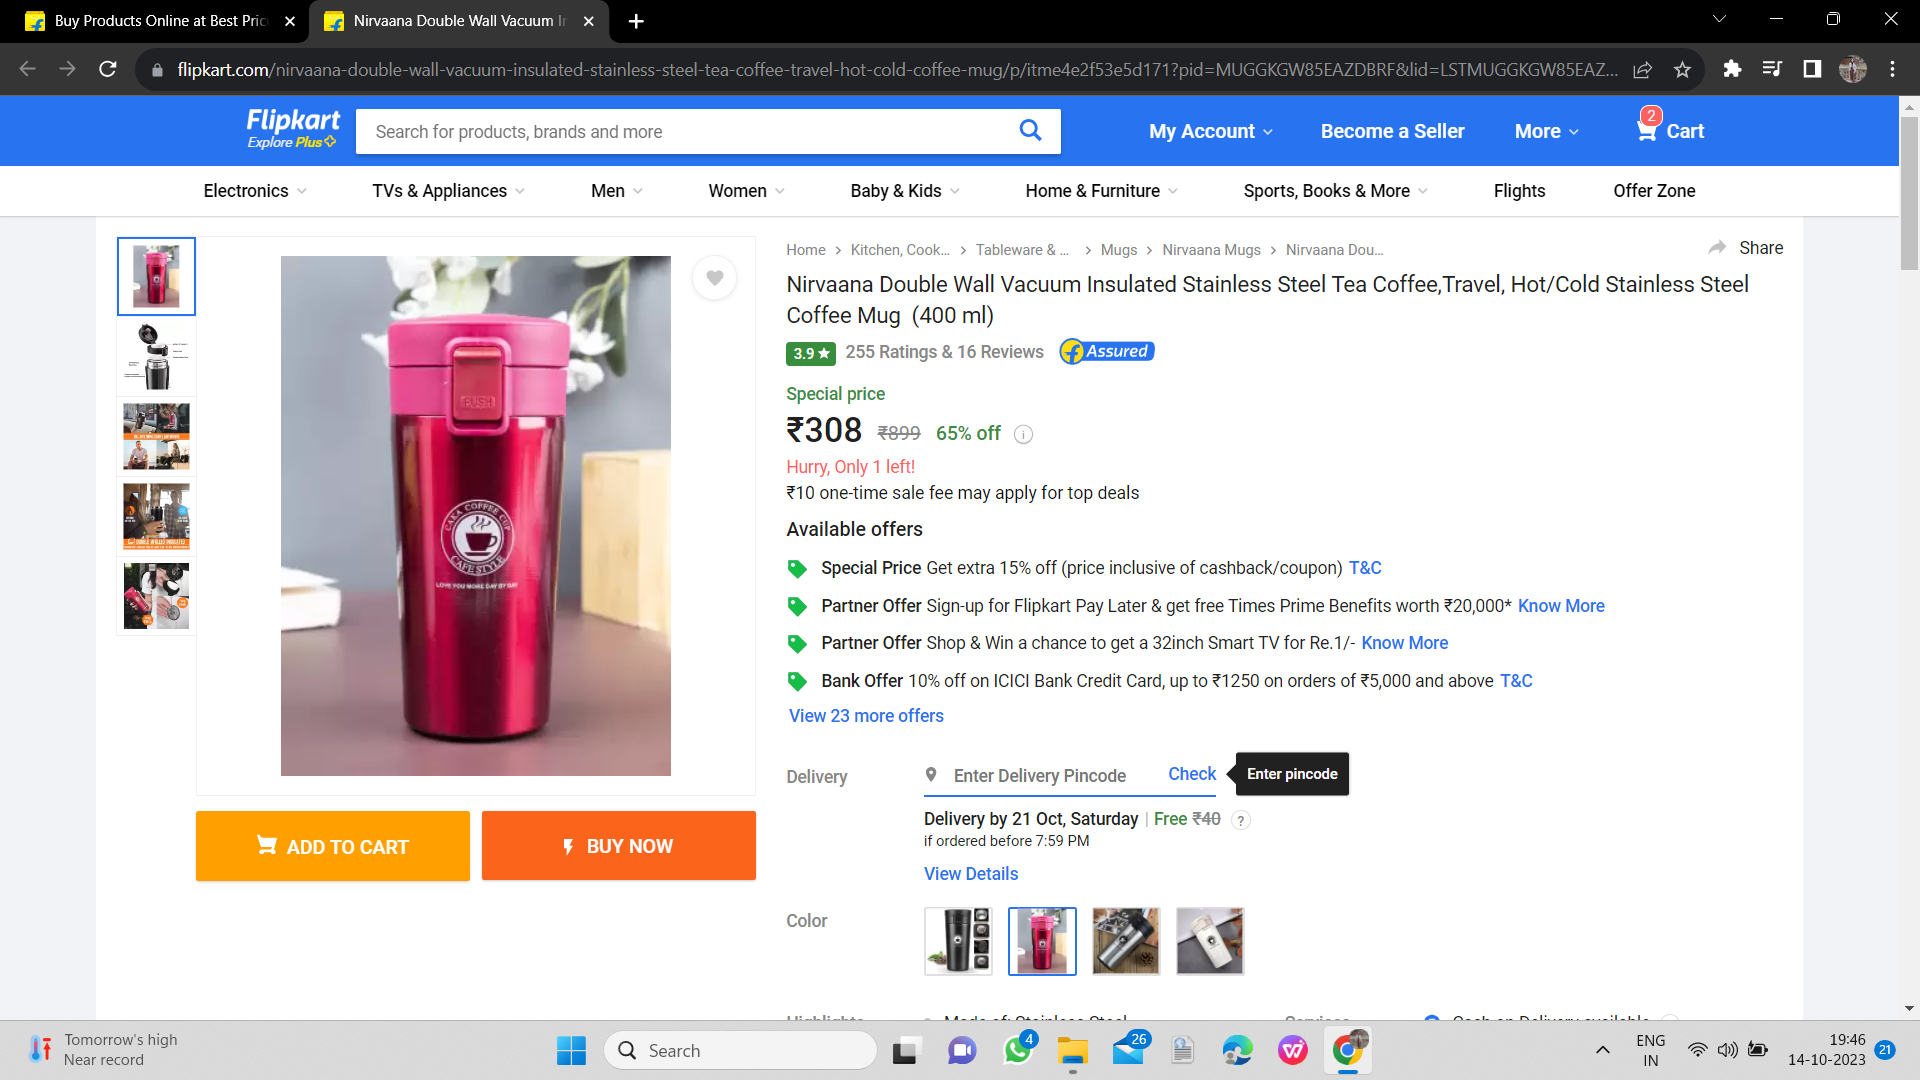Image: (272, 252, 738, 775), (913, 907, 1258, 969)
Paragraph: (778, 553, 1617, 727), (775, 258, 1775, 328), (183, 803, 766, 882), (1130, 104, 1713, 149), (907, 744, 1362, 796), (775, 331, 1168, 369), (782, 385, 1007, 446), (775, 479, 1159, 502), (903, 803, 1141, 833), (773, 514, 945, 545), (775, 455, 920, 476), (782, 762, 861, 796), (773, 903, 844, 934)
